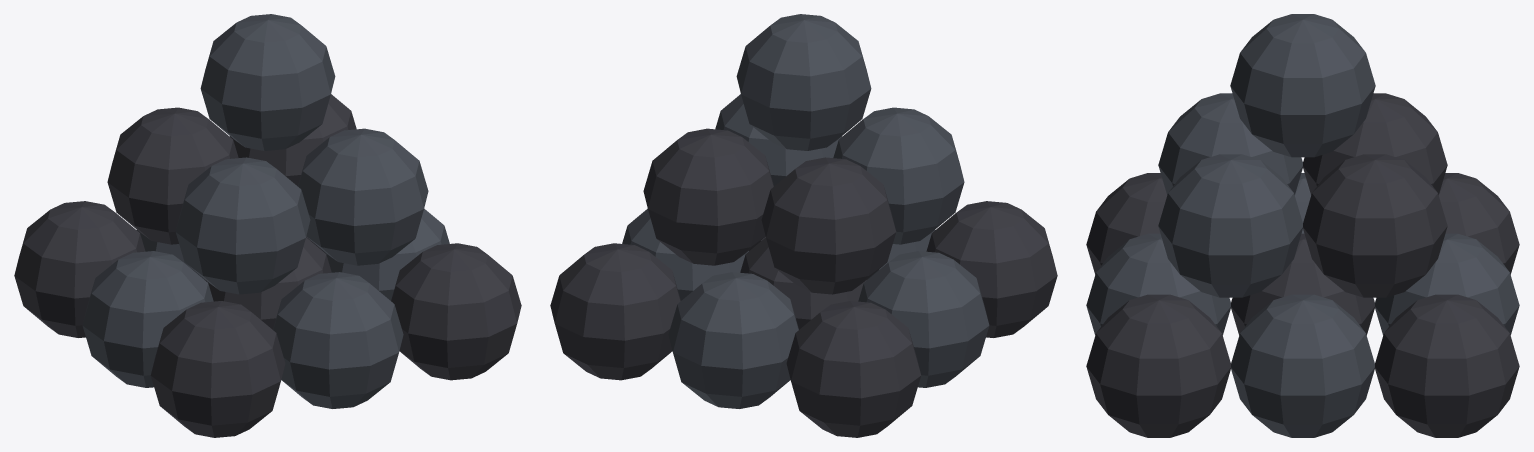
File: Cannonballs.fbx
3 renders of one model, left to right at view 1: azimuth 30°, elevation 25°; view 2: azimuth 150°, elevation 25°; view 3: azimuth 270°, elevation 25°, orthographic. The views are drawn at different scales.
Parts seen in each view (by area): view 1: Cannonballs; view 2: Cannonballs; view 3: Cannonballs.
Part boxes in pixels (left/top/right/bottom): Cannonballs: left=14, top=14, right=521, bottom=437; Cannonballs: left=550, top=14, right=1057, bottom=437; Cannonballs: left=1086, top=14, right=1519, bottom=437.
Bounding box in the file's own units: 2.81 × 2.56 × 2.86.
1 material, 1 textured.
